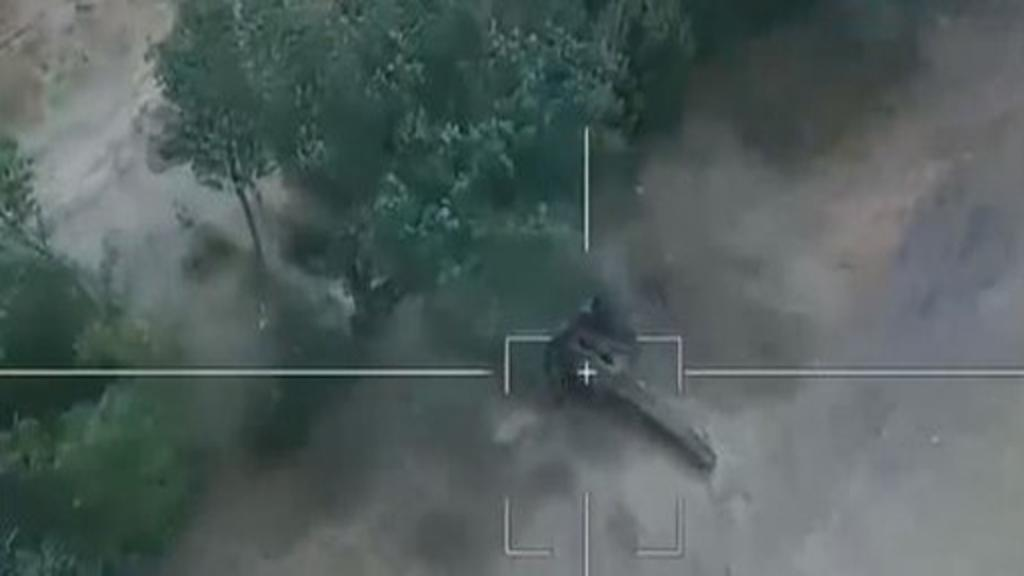ART: (524, 292, 722, 470)
